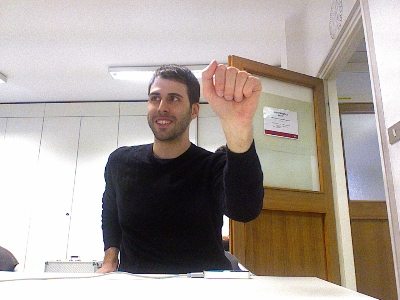石头: (199, 58, 263, 125)
